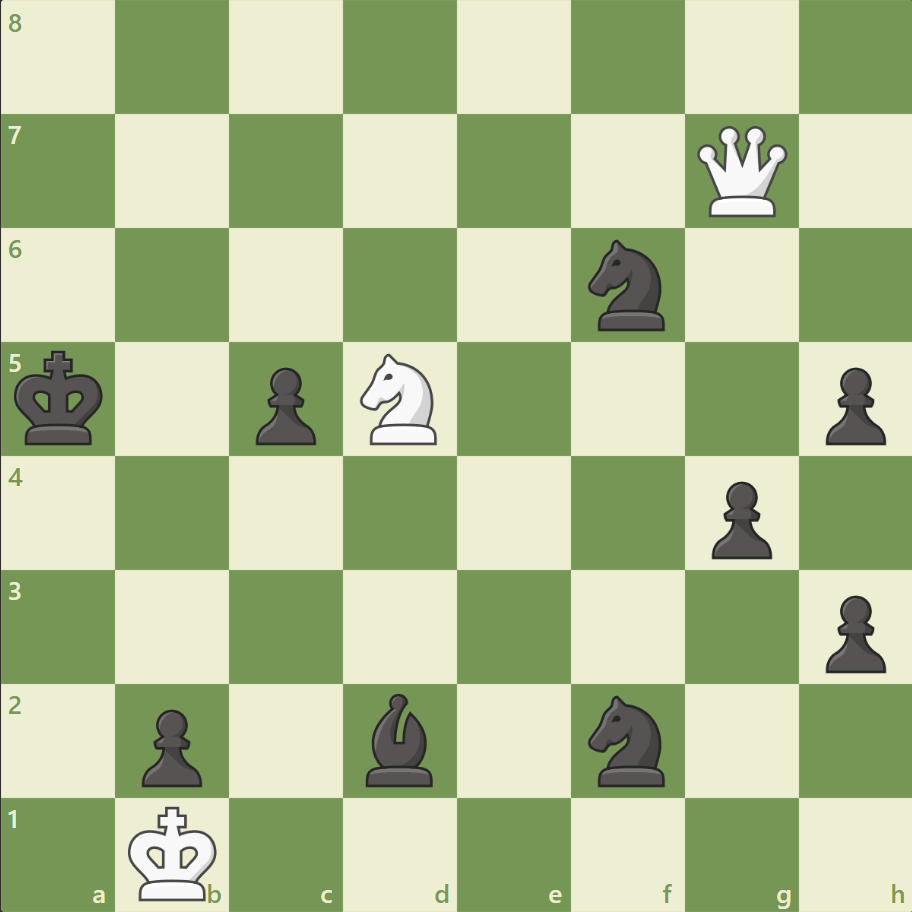K: (124, 798, 224, 906)
N: (351, 348, 449, 450)
Q: (691, 122, 790, 222)
b: (358, 687, 442, 790)
k: (11, 344, 111, 452)
n: (579, 234, 676, 337), (579, 688, 676, 791)
p: (247, 359, 322, 450), (701, 473, 776, 564), (133, 700, 208, 791), (815, 359, 889, 450), (815, 586, 889, 677)
